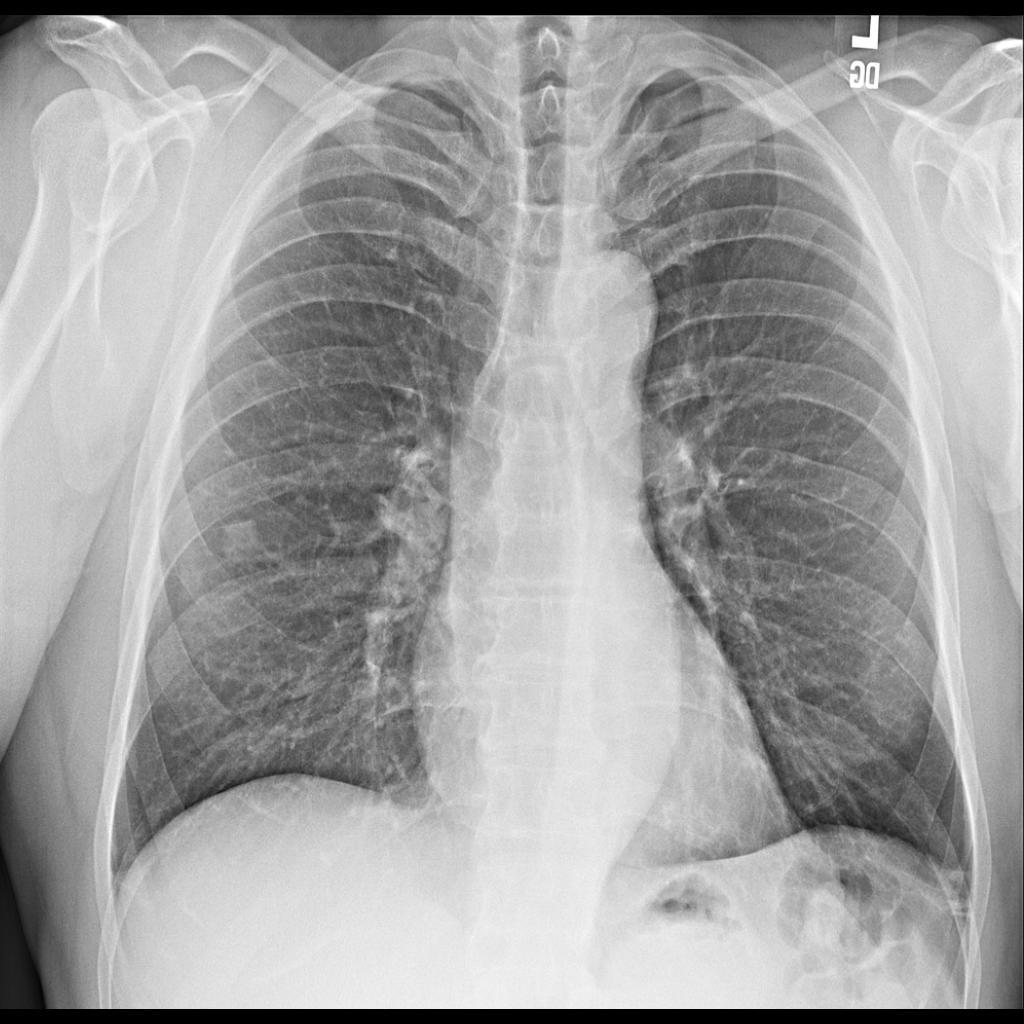Nodule: (212, 519, 272, 572)
